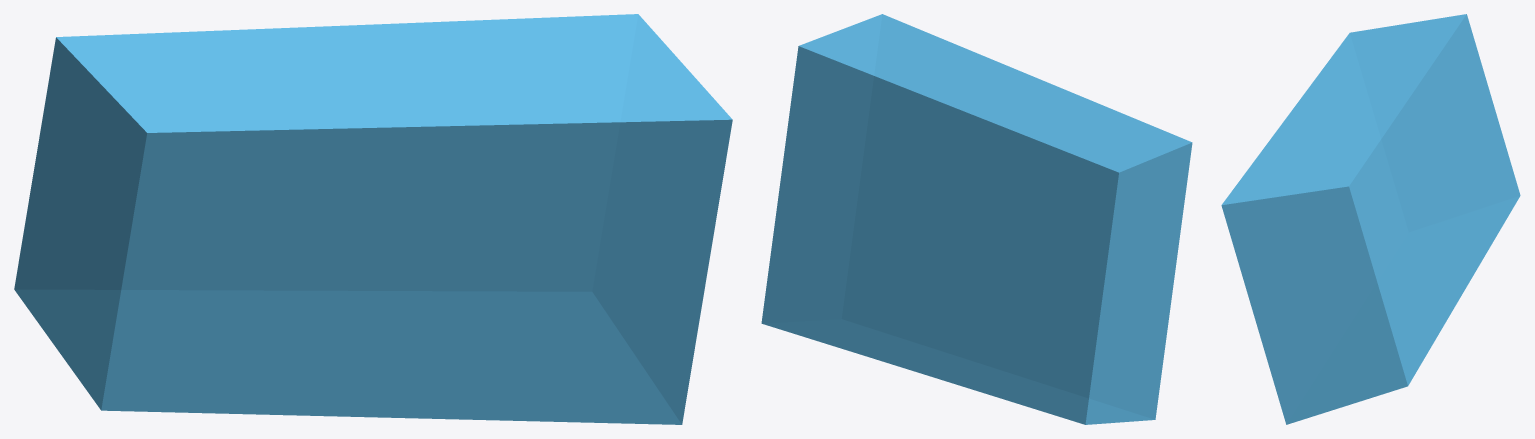
Rendered from Event_420094457_HErechit_31.fbx.
The picture shows the model from 3 angles, left to right: view 1: azimuth 30°, elevation 25°; view 2: azimuth 150°, elevation 25°; view 3: azimuth 270°, elevation 25°; orthographic projection. The views are drawn at different scales.
Visible parts, largest first — view 1: Model; view 2: Model; view 3: Model.
Boxes of the visible parts, x1,y1,x2,y2 form: Model: (14,14,732,424); Model: (761,14,1192,424); Model: (1221,14,1520,424).
Bounding box in the file's own units: 1.02 × 0.8038 × 0.8418.
